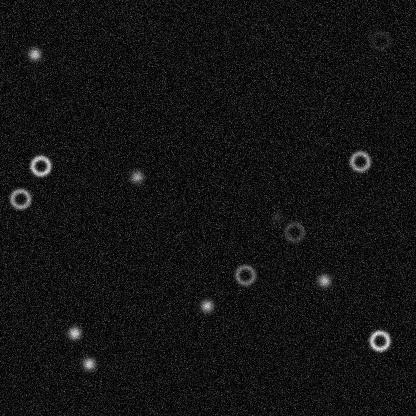Ring: (233, 262, 257, 286), (282, 219, 306, 243), (367, 328, 391, 352), (347, 149, 371, 173), (368, 28, 392, 52), (8, 186, 32, 210), (28, 153, 52, 177)
Spot: (26, 46, 42, 62), (128, 168, 144, 184), (66, 324, 82, 340), (198, 297, 214, 313), (80, 355, 96, 371), (268, 209, 284, 225), (316, 272, 332, 288)
